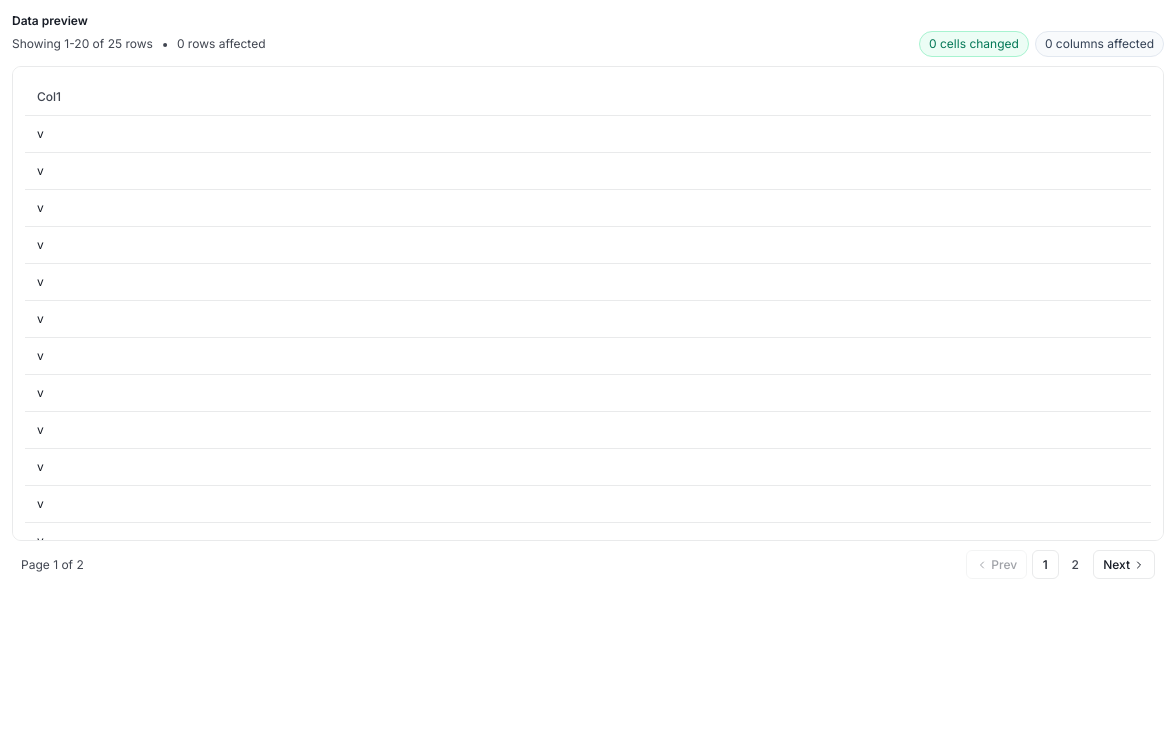
Test: GridDataOperationPreviewGrid › navigates to next page when Next is clicked
Click the button "Next": (1124, 564) [1093,550,1155,579]
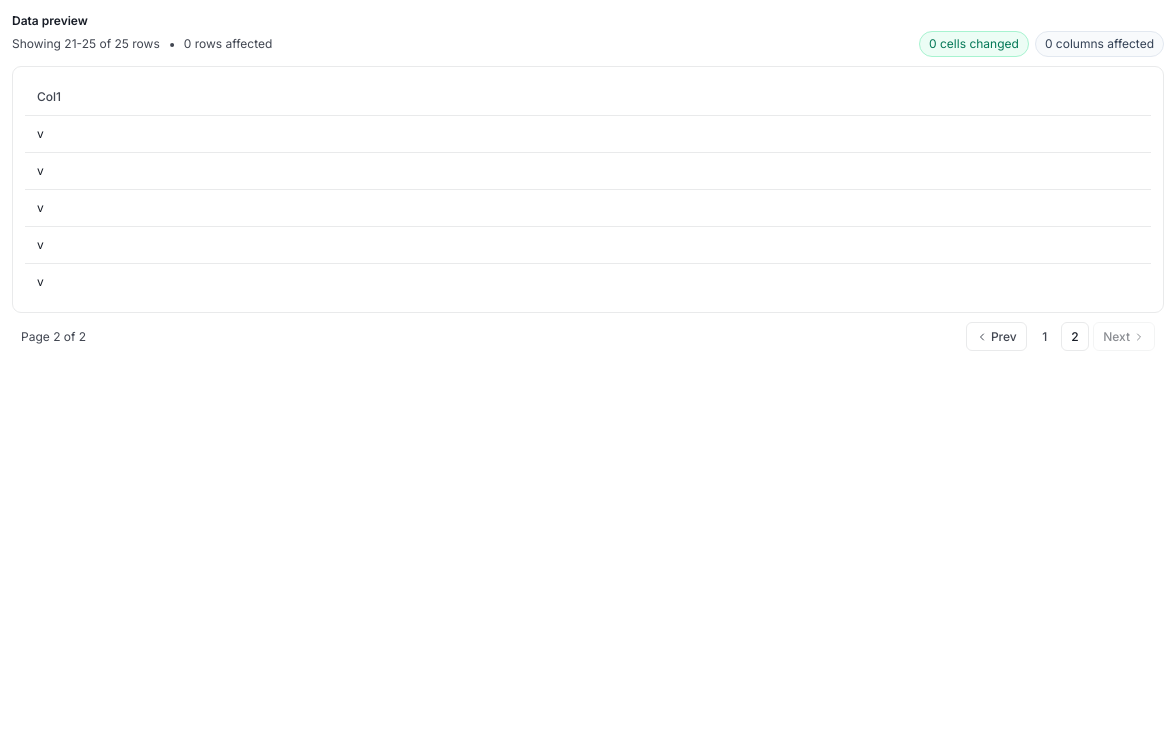
Expected: the text "Page 2 of 2" is shown, [21,328,86,346]
